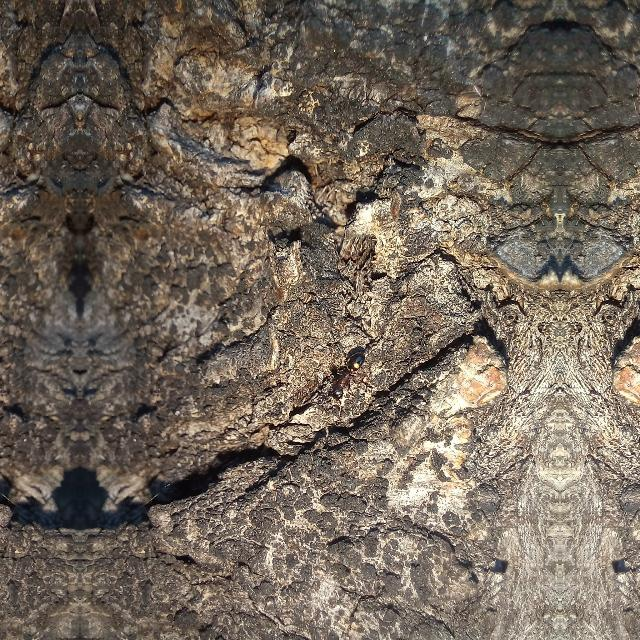Dolichoderus: (323, 332, 372, 406)
